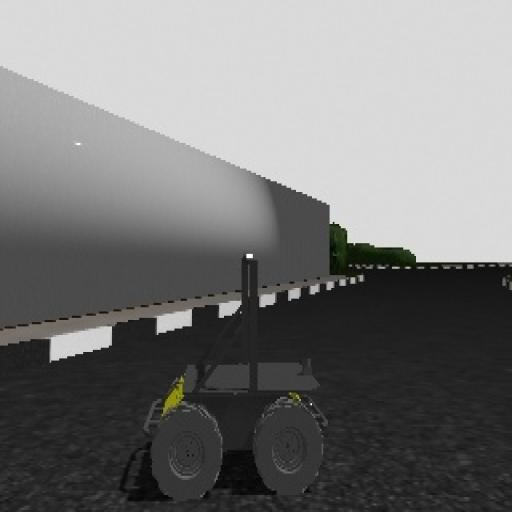huskya200: (117, 231, 339, 498)
